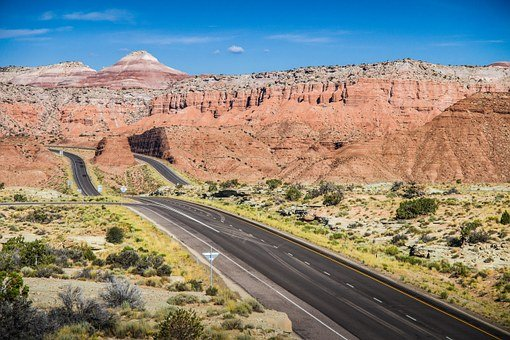field: (10, 180, 502, 332)
mountain: (2, 61, 506, 176)
sky: (2, 2, 510, 69)
